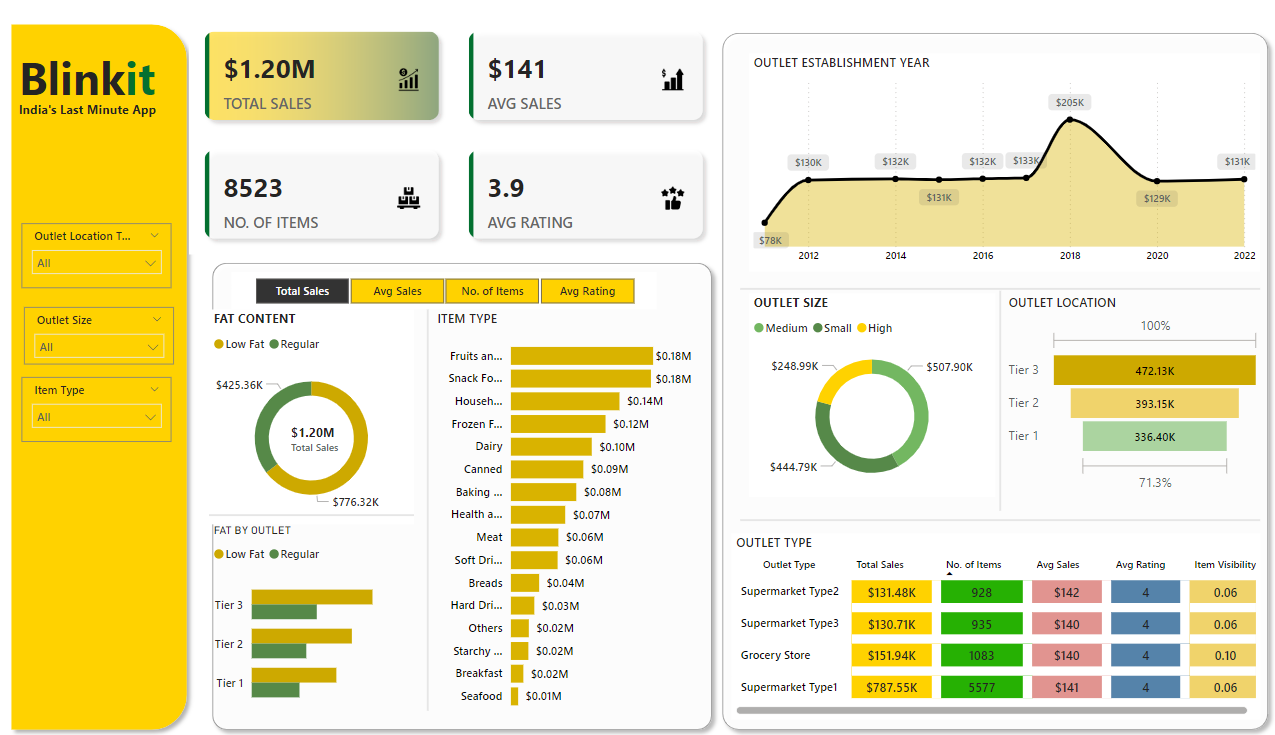

This screenshot's page, from the dashboard's own definition file:
{"tool":"powerbi","page":{"name":"Page 1","canvas":[1400,800],"ordinal":0},"visuals":[{"type":"shape","box":[20.1,25.5,206.4,774.8],"z":0},{"type":"textbox","box":[32.2,53.6,171.6,85.8],"z":1000},{"type":"textbox","box":[32.2,111.3,168.9,28.2],"z":2000},{"type":"cardVisual","fields":{"Data":["BlinkIT Grocery Data.Total Sales","BlinkIT Grocery Data.Avg Sales","BlinkIT Grocery Data.No. of Items","BlinkIT Grocery Data.Avg Rating"]},"box":[219.8,25.5,569.7,256],"z":3000},{"type":"shape","box":[235.9,281.5,553.6,518.8],"z":4000},{"type":"donutChart","title":"FAT CONTENT","fields":{"Y":["BlinkIT Grocery Data.Total Sales"],"Category":["BlinkIT Grocery Data.Item Fat Content"]},"box":[241.3,340.5,219.8,230.6],"z":5000},{"type":"slicer","fields":{"Values":["Metrics.Metrics"]},"box":[265.4,300.3,455.8,40.2],"z":6000},{"type":"cardVisual","fields":{"Data":["BlinkIT Grocery Data.Total Sales"]},"box":[304.3,438.3,111.3,65.7],"z":7000},{"type":"clusteredBarChart","title":"FAT BY OUTLET","fields":{"Y":["BlinkIT Grocery Data.Total Sales"],"Category":["BlinkIT Grocery Data.Outlet Location Type"],"Series":["BlinkIT Grocery Data.Item Fat Content"]},"box":[241.3,569.7,219.8,210.5],"z":8000},{"type":"shape","box":[241.3,550.9,219.8,20.1],"z":9000},{"type":"shape","box":[470.5,340.5,10.7,430.3],"z":10000},{"type":"barChart","title":"ITEM TYPE","fields":{"Y":["BlinkIT Grocery Data.Total Sales"],"Category":["BlinkIT Grocery Data.Item Type"]},"box":[481.2,340.5,282.8,439.7],"z":11000},{"type":"shape","box":[782.8,34.9,603.2,765.4],"z":12000},{"type":"lineChart","title":"OUTLET ESTABLISHMENT YEAR","fields":{"Y":["BlinkIT Grocery Data.Total Sales"],"Category":["BlinkIT Grocery Data.Outlet Establishment Year"]},"box":[820.4,65.7,548.3,234.6],"z":13000},{"type":"shape","box":[811,313.7,557.6,9.4],"z":14000},{"type":"donutChart","title":"OUTLET SIZE","fields":{"Y":["BlinkIT Grocery Data.Total Sales"],"Category":["BlinkIT Grocery Data.Outlet Size"]},"box":[820.4,323.1,264.1,218.5],"z":15000},{"type":"shape","box":[1084.5,320.4,10.7,235.9],"z":16000},{"type":"funnel","title":"OUTLET LOCATION","fields":{"Y":["Sum(BlinkIT Grocery Data.Sales)"],"Category":["BlinkIT Grocery Data.Outlet Location Type"]},"box":[1093.8,323.1,280.2,218.5],"z":17000},{"type":"shape","box":[811,561.7,557.6,9.4],"z":18000},{"type":"pivotTable","title":"OUTLET TYPE","fields":{"Rows":["BlinkIT Grocery Data.Outlet Type"],"Values":["BlinkIT Grocery Data.Total Sales","BlinkIT Grocery Data.No. of Items","BlinkIT Grocery Data.Avg Sales","BlinkIT Grocery Data.Avg Rating","Avg(BlinkIT Grocery Data.Item Visibility)"]},"box":[801.6,580.4,567,199.7],"z":19000},{"type":"slicer","fields":{"Values":["BlinkIT Grocery Data.Outlet Location Type"]},"box":[40.2,248,160.9,69.7],"z":20000},{"type":"slicer","fields":{"Values":["BlinkIT Grocery Data.Outlet Size"]},"box":[42.9,337.8,160.9,61.7],"z":21000},{"type":"slicer","fields":{"Values":["BlinkIT Grocery Data.Item Type"]},"box":[40.2,412.9,160.9,69.7],"z":22000}]}

Visuals, with their boxes in screenshot pixels (x1, y1, x2, y2), scaled from the page's 1400x800 canvas onto the 1275x735 screenshot:
shape: select_region(18, 23, 206, 734)
textbox: select_region(29, 49, 186, 128)
textbox: select_region(29, 102, 183, 128)
cardVisual - BlinkIT Grocery Data.Total Sales x BlinkIT Grocery Data.Avg Sales: select_region(200, 23, 719, 259)
shape: select_region(215, 259, 719, 734)
"FAT CONTENT" donutChart: select_region(220, 313, 420, 525)
slicer - Metrics.Metrics: select_region(242, 276, 657, 313)
cardVisual - BlinkIT Grocery Data.Total Sales: select_region(277, 403, 378, 463)
"FAT BY OUTLET" clusteredBarChart: select_region(220, 523, 420, 717)
shape: select_region(220, 506, 420, 525)
shape: select_region(428, 313, 438, 708)
"ITEM TYPE" barChart: select_region(438, 313, 696, 717)
shape: select_region(713, 32, 1262, 734)
"OUTLET ESTABLISHMENT YEAR" lineChart: select_region(747, 60, 1246, 276)
shape: select_region(739, 288, 1246, 297)
"OUTLET SIZE" donutChart: select_region(747, 297, 988, 498)
shape: select_region(988, 294, 997, 511)
"OUTLET LOCATION" funnel: select_region(996, 297, 1251, 498)
shape: select_region(739, 516, 1246, 525)
"OUTLET TYPE" pivotTable: select_region(730, 533, 1246, 717)
slicer - BlinkIT Grocery Data.Outlet Location Type: select_region(37, 228, 183, 292)
slicer - BlinkIT Grocery Data.Outlet Size: select_region(39, 310, 186, 367)
slicer - BlinkIT Grocery Data.Item Type: select_region(37, 379, 183, 443)
